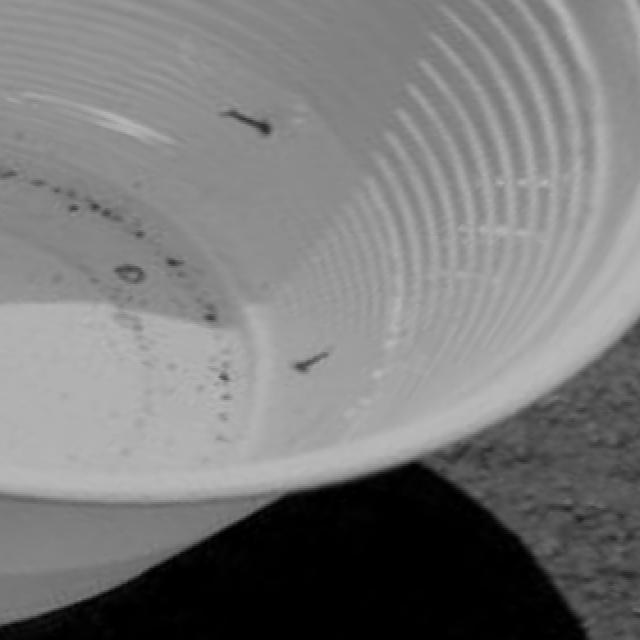larvas: (226, 108, 270, 136), (298, 350, 327, 372), (119, 263, 142, 285)
